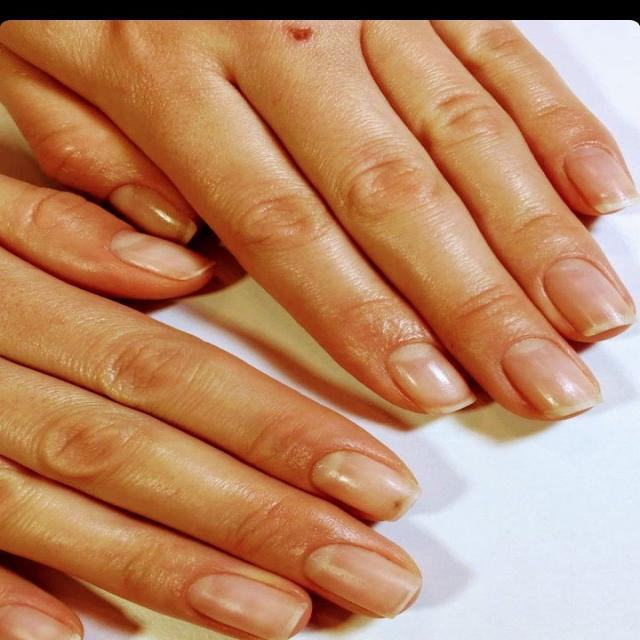Fingernail: (306, 543, 419, 618), (188, 574, 304, 639), (504, 340, 600, 418), (312, 452, 417, 521), (545, 258, 634, 336), (388, 344, 473, 411), (110, 185, 193, 244), (566, 147, 639, 213), (112, 231, 208, 279)
